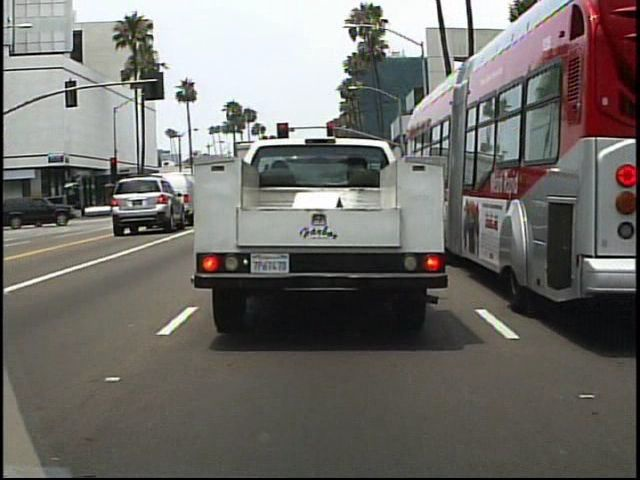person: (30, 195, 49, 227)
